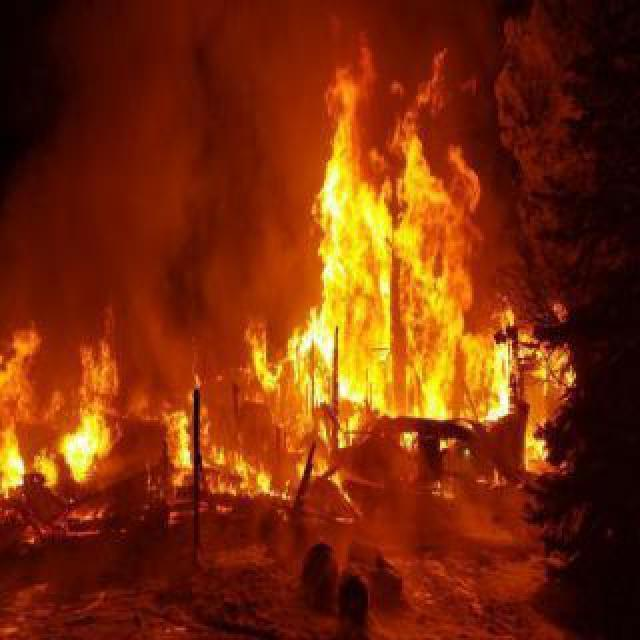Fire: (298, 46, 476, 468), (156, 316, 296, 520), (2, 298, 126, 512), (478, 296, 566, 470)
Smoke: (182, 20, 260, 176), (212, 178, 298, 266), (158, 176, 210, 316)
